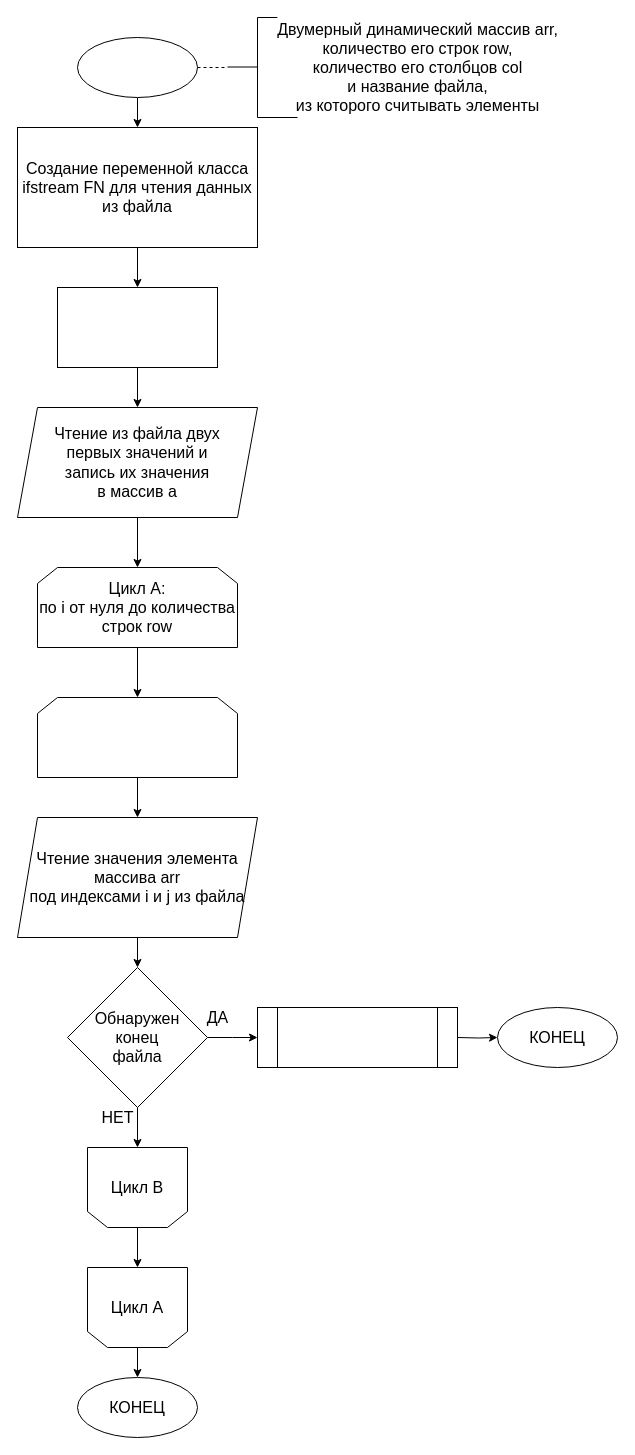
This 635x1455 diagram has some shape labels left out. The centre of each missing label's shape, as x and y in pixels:
"Вызов функции Errors(5)" goes at (x=357, y=1037).
"Инициализация массива из двух элементво a" goes at (x=137, y=327).
"НАЧАЛО" goes at (x=137, y=67).
"Цикл В: по j от нуля до количества столбцов col" goes at (x=137, y=737).
